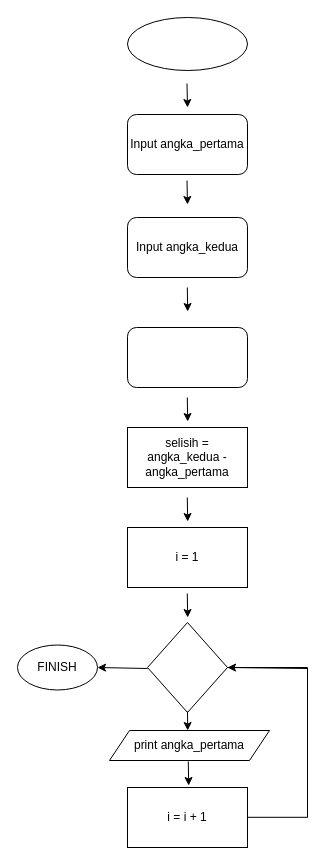
The diagram is 333 pixels wide and 865 high, and some of its shapes have lost their labels. The centre of each missing label's shape, as x and y in pixels:
i<=x: (187,667)
Input X: (187,357)
START: (187,43)
